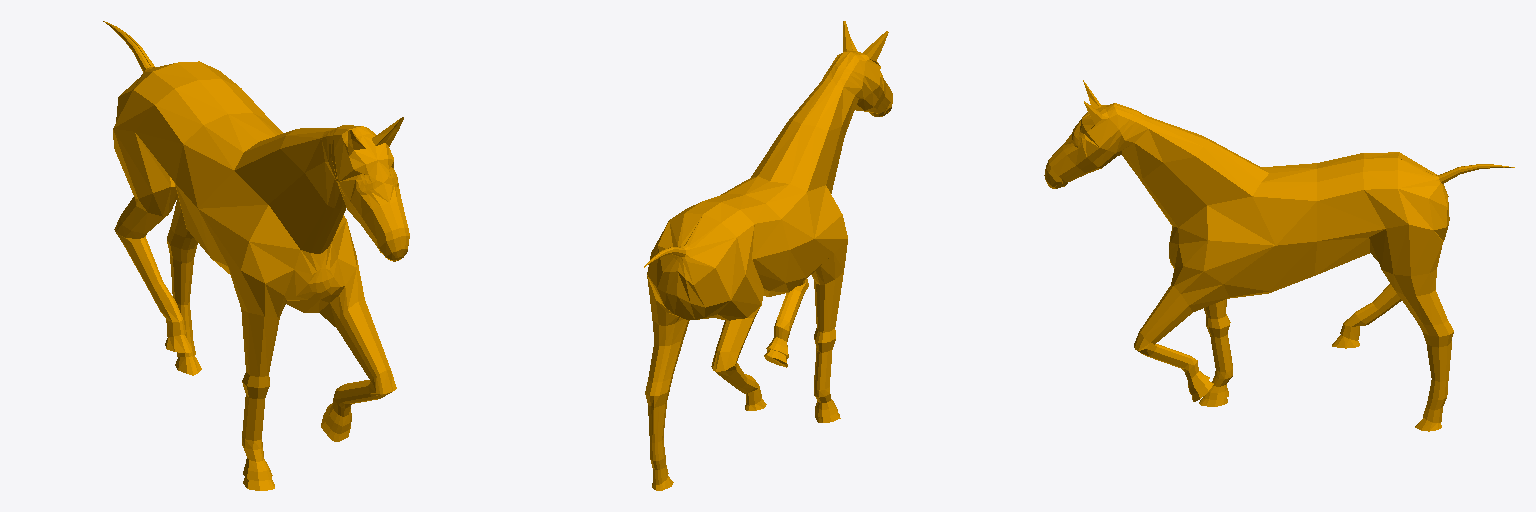
URDF robot description (none):
<robot name="none">
       <link name="none">
           <visual>
               <origin rpy="1.57 0 0" xyz="0 0 0" />
               <geometry>
                   <mesh filename="horse2.obj" />
               </geometry>
           </visual>
          <collision>
              <geometry>
                  <box size="0.222752 0.763996 1.000000" />
              </geometry>
          </collision>

          <inertial>
            <mass value="0.0" />
            <inertia ixx="0.0" ixy="0.0" ixz="0.0" iyy="0.0" iyz="0.0" izz="0.0" />
          </inertial>
      </link>
  </robot>

--- Facts derived from the render (not from the file) ---
Views: 3 orthographic renders of the robot side by side, from view 1: azimuth 30°, elevation 25°; view 2: azimuth 150°, elevation 25°; view 3: azimuth 270°, elevation 25°.
Robot: none — 1 links, 0 joints (none); root link none; default pose: all joints at 0.
Links seen in each view (by area): view 1: none; view 2: none; view 3: none.
Link boxes in pixels (x1=…): none: x1=103, y1=21, x2=409, y2=490; none: x1=644, y1=21, x2=892, y2=490; none: x1=1044, y1=80, x2=1514, y2=431.
Size in the robot's own frame: 0.2228 by 1 by 0.7642 metres.
1 mesh visuals loaded from 1 distinct referenced files (1 OBJ).